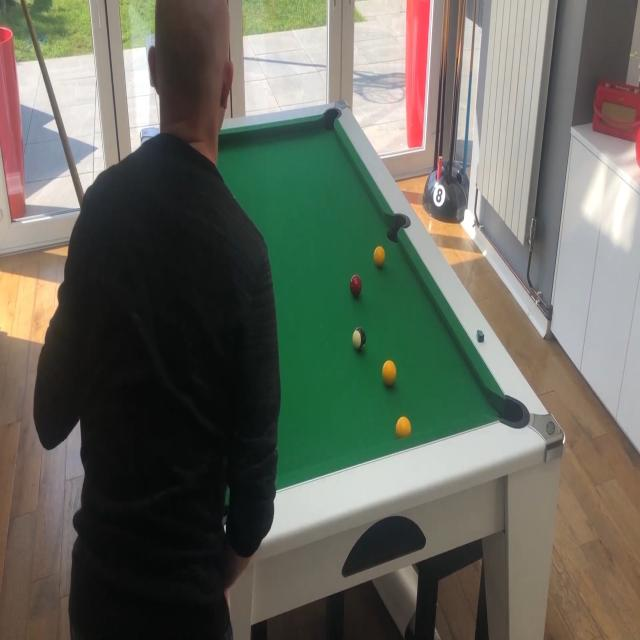Ball: (382, 360, 397, 388), (352, 326, 366, 352), (396, 416, 411, 438), (373, 246, 386, 268), (350, 275, 362, 297)
Billiard table: (140, 99, 566, 589)
